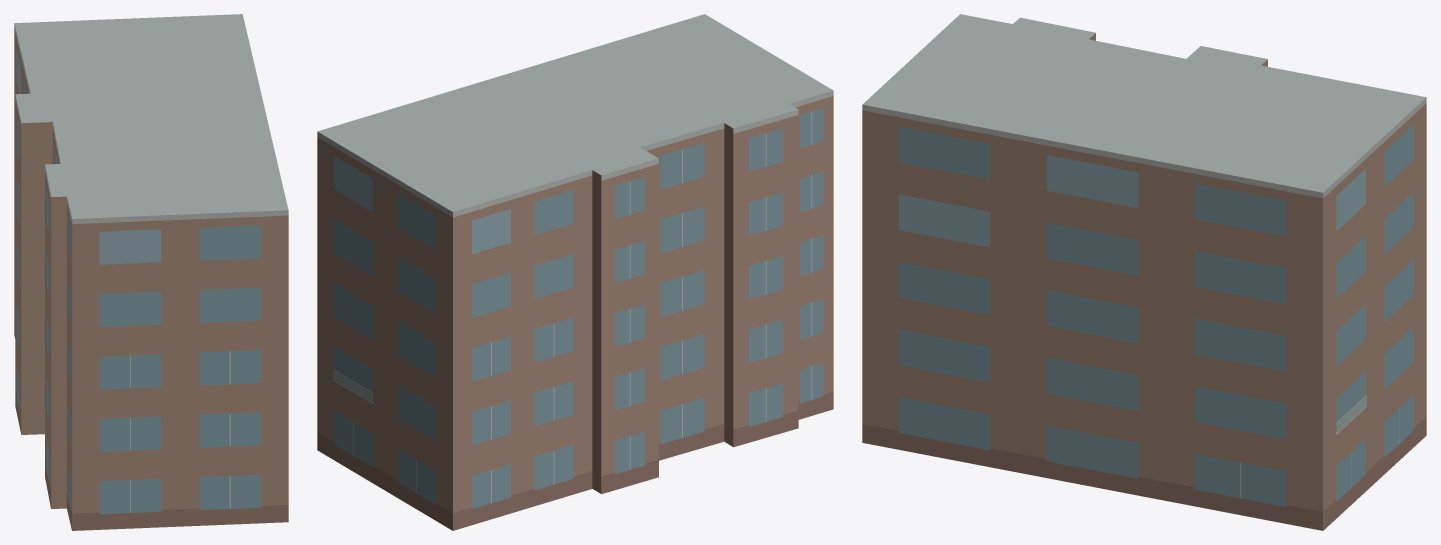
The model's file is survey-upis-32989611.glb.
The picture shows the model from 3 angles, left to right: view 1: azimuth 30°, elevation 25°; view 2: azimuth 150°, elevation 25°; view 3: azimuth 270°, elevation 25°; orthographic projection. The views are drawn at different scales.
Visible parts, largest first — view 1: survey-upis-32989611.tmp; view 2: survey-upis-32989611.tmp; view 3: survey-upis-32989611.tmp.
Boxes of the visible parts, x1,y1,x2,y2 form: survey-upis-32989611.tmp: (14,14,288,530); survey-upis-32989611.tmp: (317,14,833,530); survey-upis-32989611.tmp: (862,14,1426,530).
Size of the model in its own units: 16.45 by 14.5 by 21.94.
